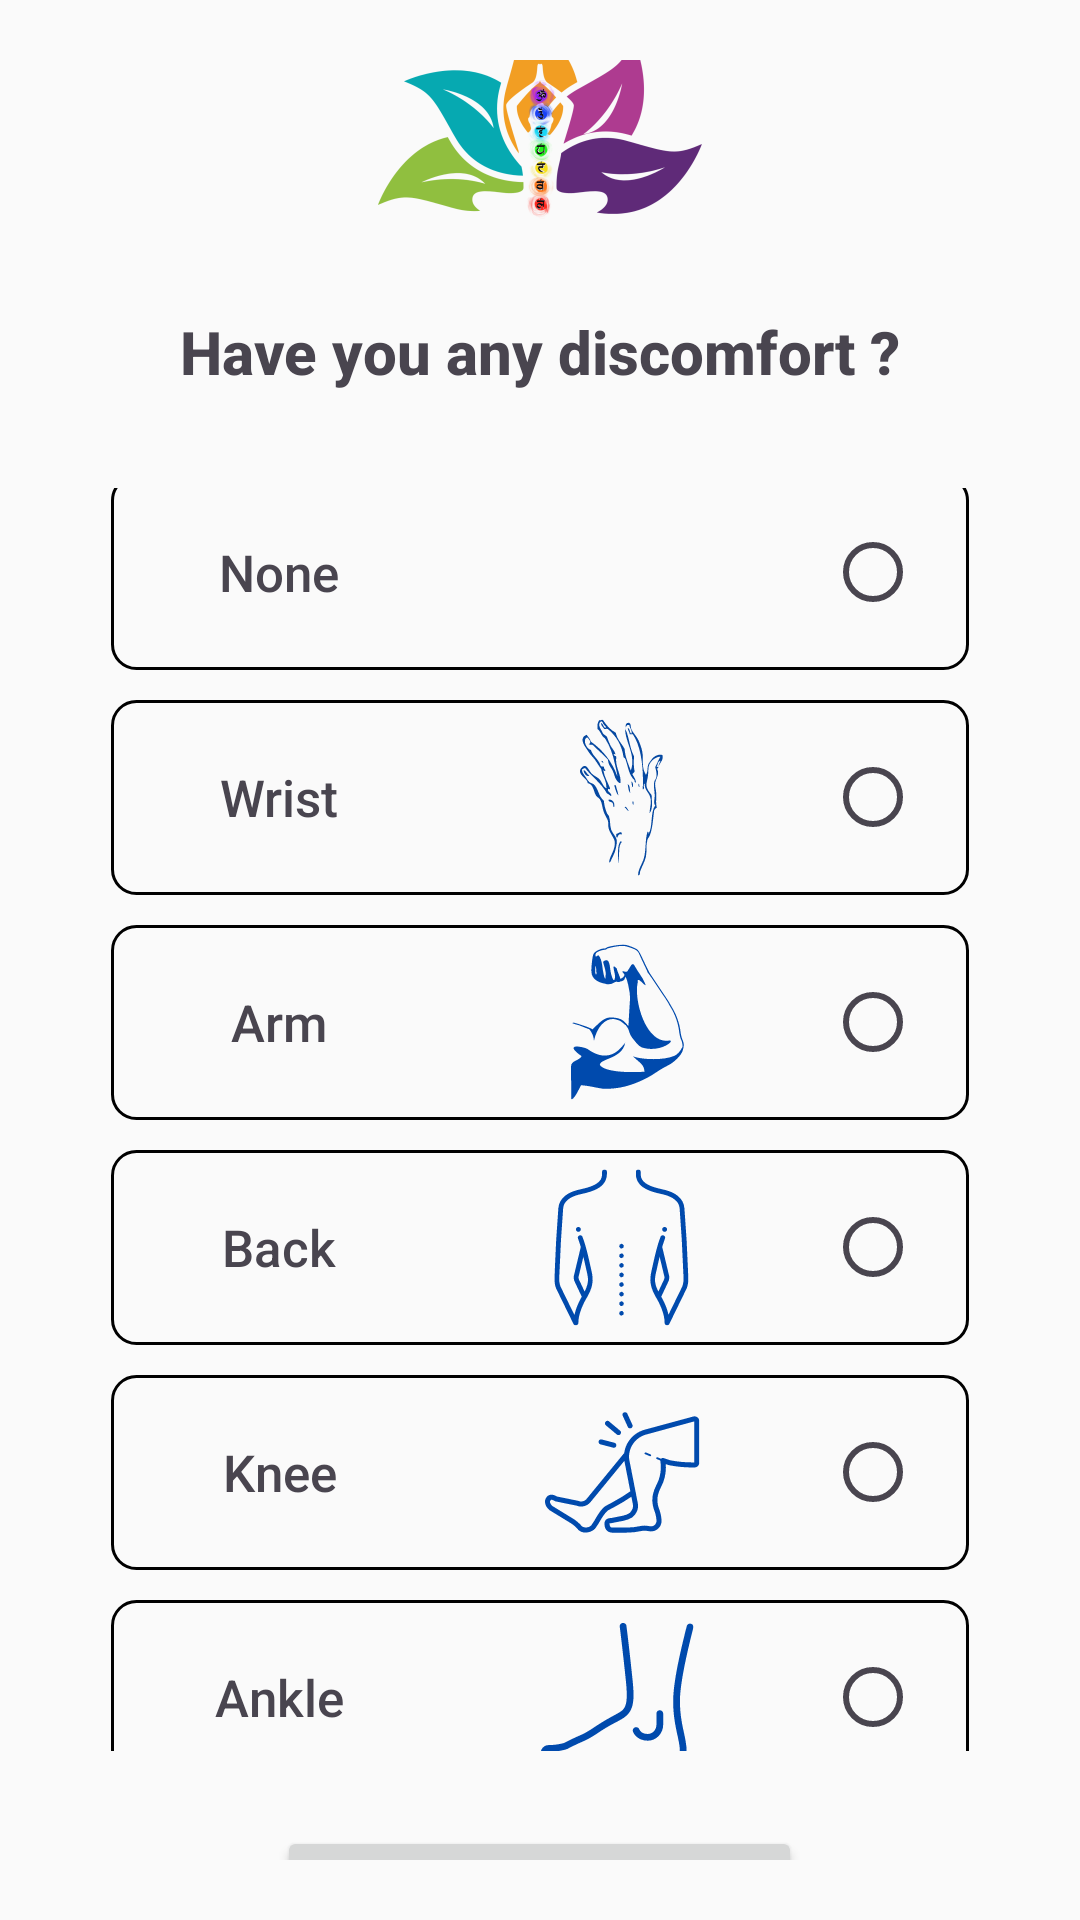

Where icons sit on this 1080×1920 app screen, as bbox=[x1, y1, x2, y2]:
armm: bbox=[571, 944, 684, 1099]
